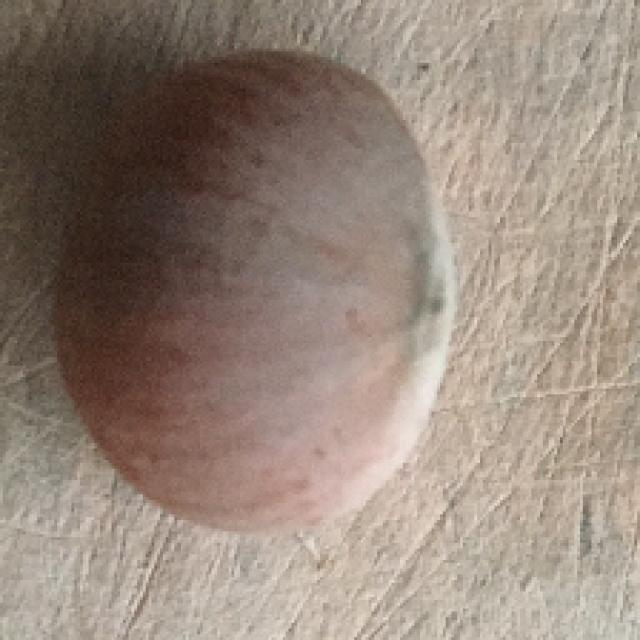qualityHazelnut: (52, 45, 456, 535)
